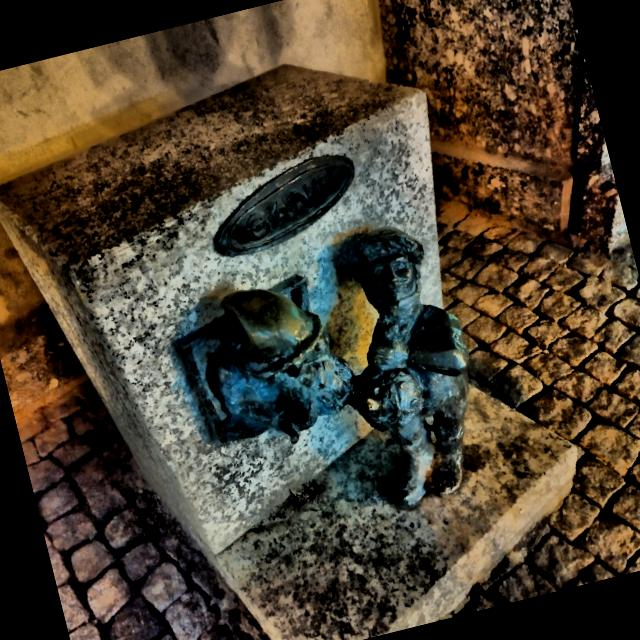Kantorki: (174, 226, 468, 504)
